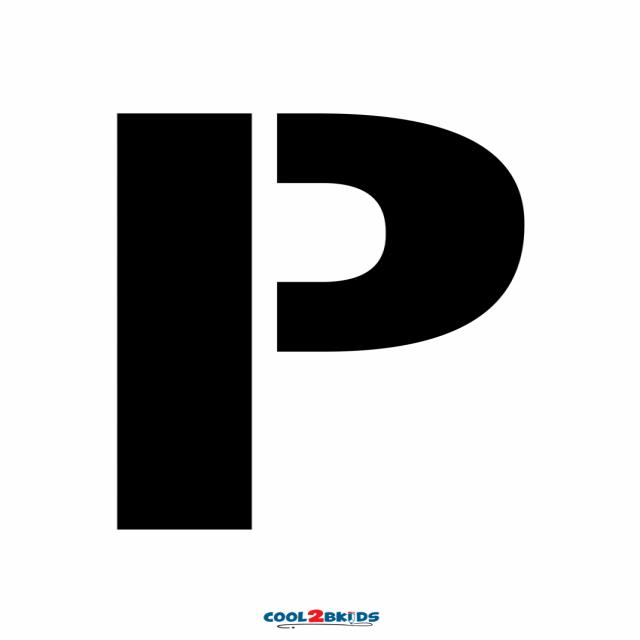P: (69, 70, 566, 579)
